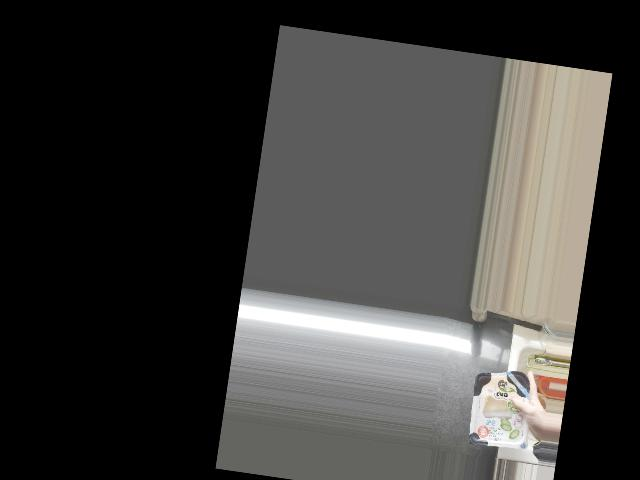cheese: (467, 365, 537, 448)
